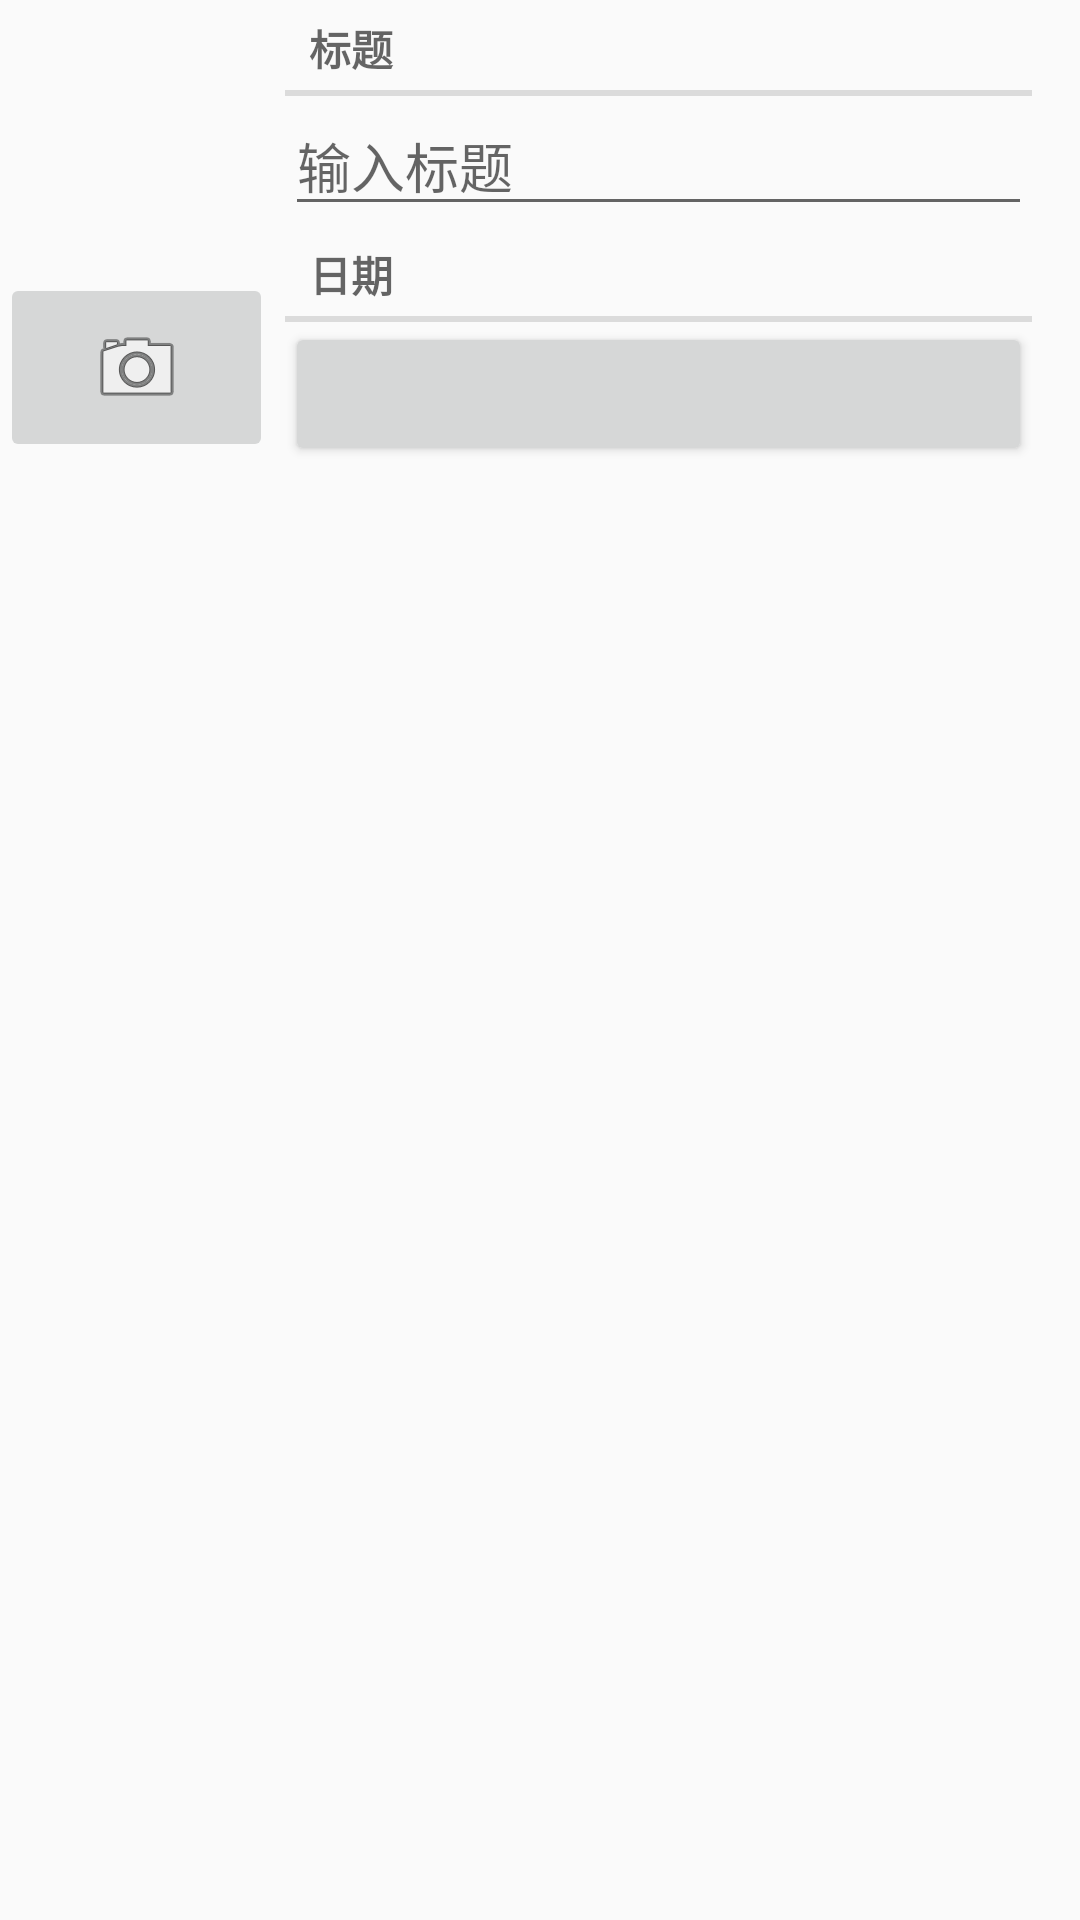

Icon click points for this 1080 × 1920 phone screenshot, format (x,y):
camera: (136,367)
